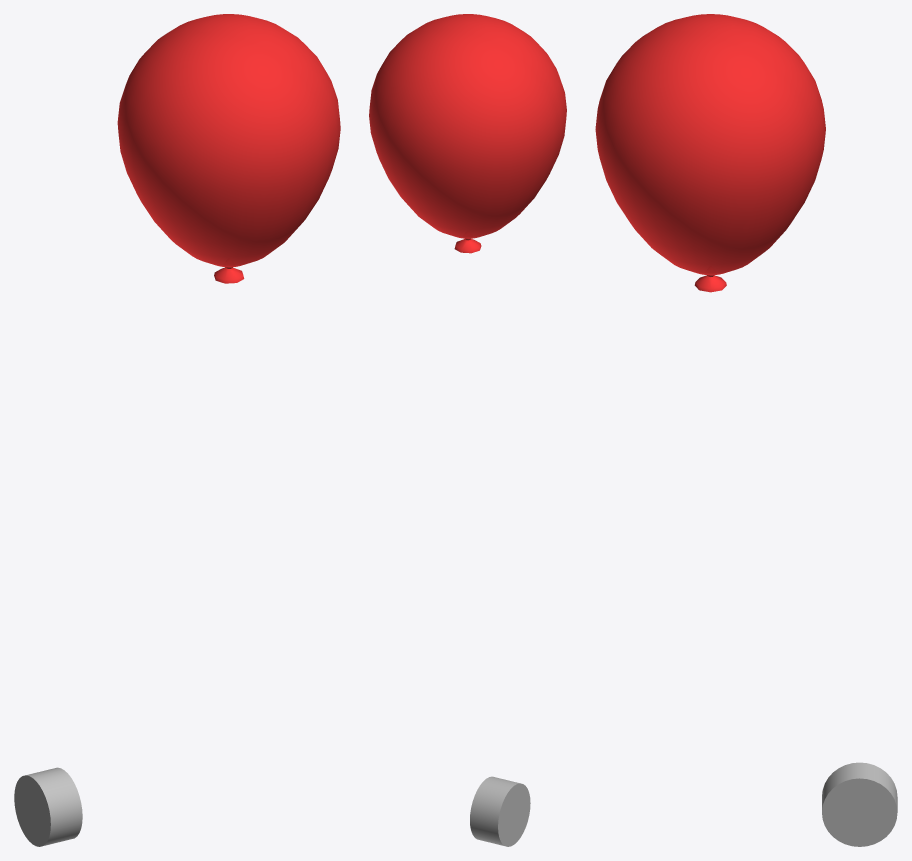
The model's file is Balloon.obj.
3 views of the same model, side by side, from view 1: azimuth 30°, elevation 25°; view 2: azimuth 150°, elevation 25°; view 3: azimuth 270°, elevation 25° (orthographic). The views are drawn at different scales.
Parts seen in each view (by area): view 1: Part, Handle; view 2: Part, Handle; view 3: Part, Handle.
Part boxes in pixels (left/top/right/bottom): Part: left=117, top=14, right=340, bottom=283; Handle: left=14, top=767, right=82, bottom=846; Part: left=369, top=14, right=566, bottom=253; Handle: left=470, top=776, right=530, bottom=846; Part: left=595, top=14, right=825, bottom=292; Handle: left=822, top=762, right=897, bottom=846.
Size of the model in its own units: 1.39 by 5.07 by 1.6.
